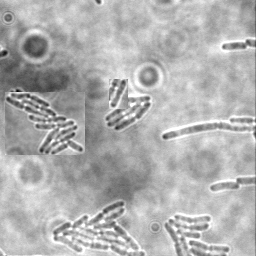Dividing: (161, 123, 255, 142), (221, 41, 248, 52)
Microcolony: (51, 200, 147, 255), (5, 92, 85, 155), (162, 212, 231, 255), (106, 96, 153, 132), (208, 182, 240, 193)
Rod: (109, 79, 128, 109)
